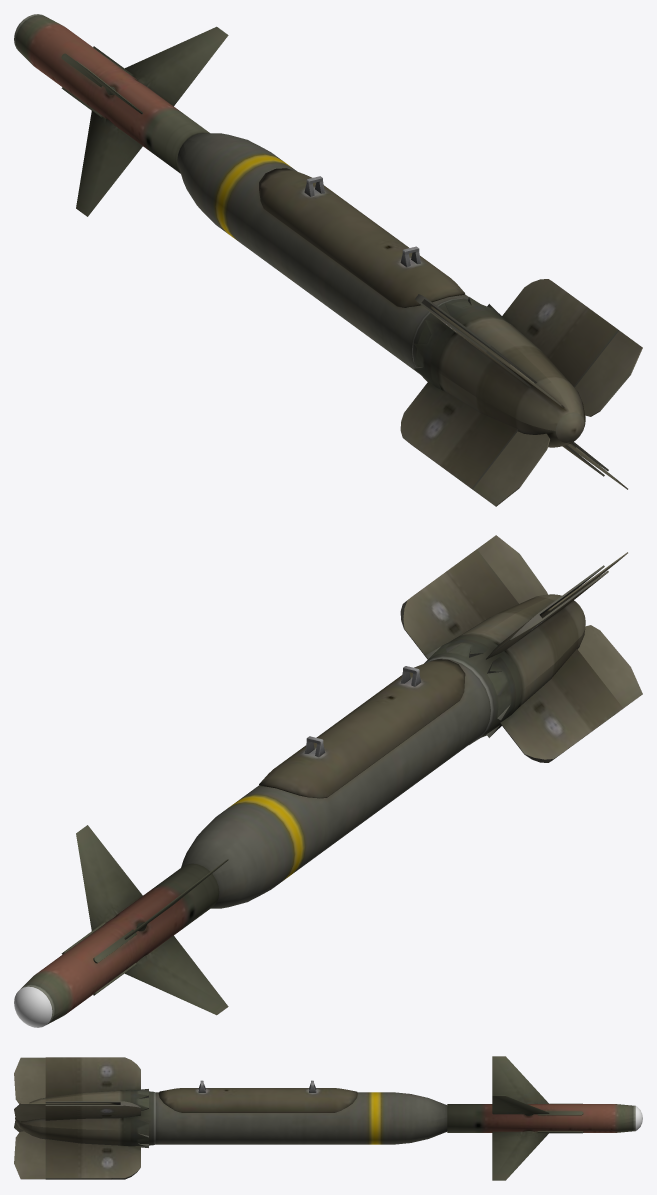
File: w_gbu24.glb
The picture shows the model from 3 angles, top to bottom: view 1: azimuth 30°, elevation 25°; view 2: azimuth 150°, elevation 25°; view 3: azimuth 270°, elevation 25°; orthographic projection. The views are drawn at different scales.
Visible parts, largest first — view 1: body|w_gpb_a0-Mat.002; view 2: body|w_gpb_a0-Mat.002, body|w_gpb_a0-Glass.002; view 3: body|w_gpb_a0-Mat.002.
Boxes of the visible parts, box(x1,y1,x2,y2) form: body|w_gpb_a0-Mat.002: box(14, 14, 642, 506); body|w_gpb_a0-Mat.002: box(21, 535, 642, 1024); body|w_gpb_a0-Glass.002: box(14, 986, 52, 1027); body|w_gpb_a0-Mat.002: box(14, 1056, 635, 1180).
Size of the model in its own units: 0.7026 by 0.7026 by 4.4.
Materials: 2 (1 with a texture image).
